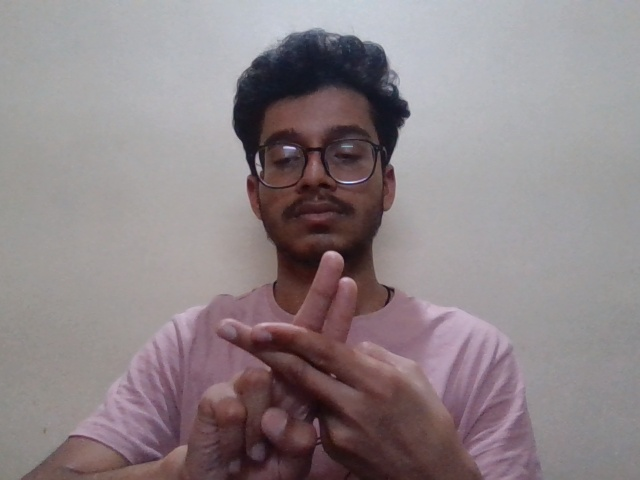disabled: (179, 243, 450, 462)
